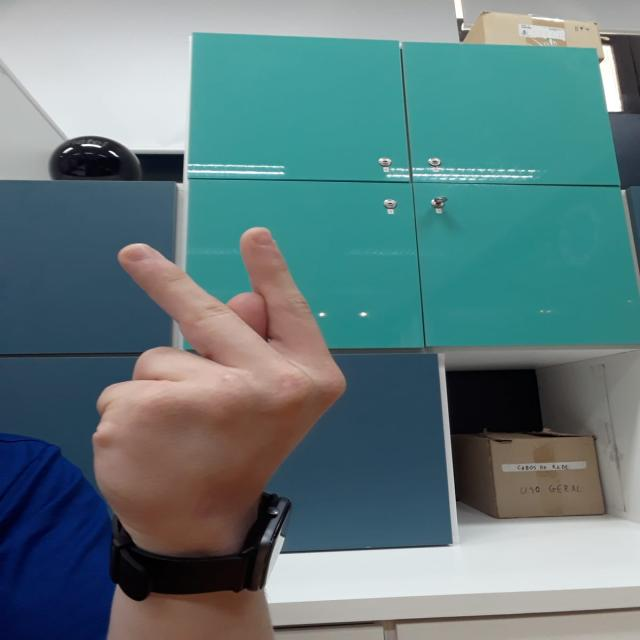K: (79, 213, 349, 518)
